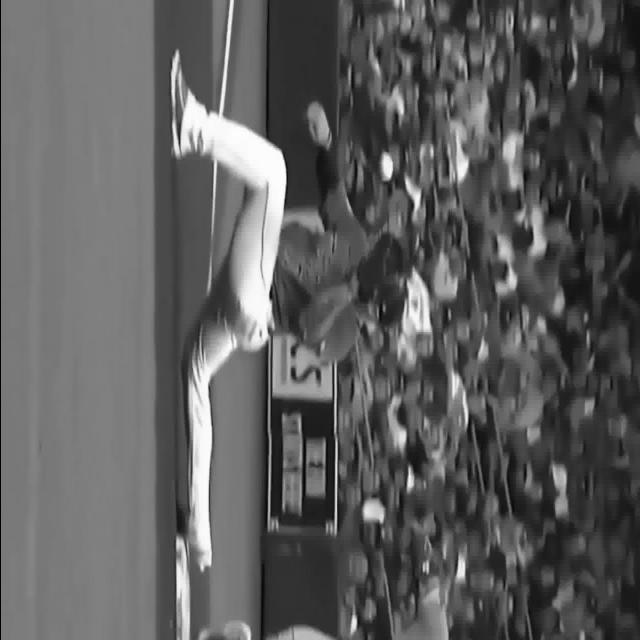base: (170, 538, 193, 640)
baseball: (378, 150, 393, 182)
baseball_glove: (357, 233, 408, 323)
shoe: (169, 48, 189, 158), (187, 521, 212, 572)
